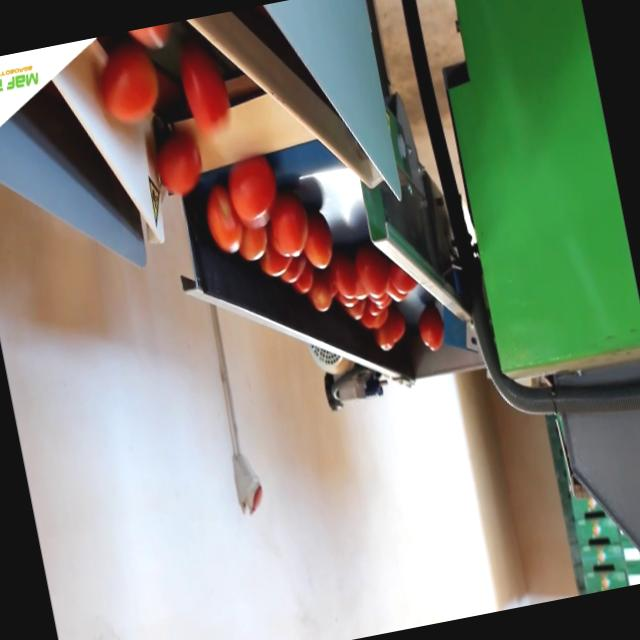Tomato: (94, 49, 163, 130), (178, 60, 232, 133), (226, 163, 282, 224), (155, 134, 208, 198), (203, 191, 246, 255), (301, 210, 339, 273), (120, 23, 177, 61), (272, 205, 312, 254), (357, 251, 392, 299), (373, 309, 410, 354), (416, 304, 448, 356), (235, 220, 273, 260), (330, 254, 362, 298), (308, 273, 334, 314), (388, 262, 418, 296), (260, 243, 290, 277), (278, 258, 310, 284), (349, 302, 369, 324)
